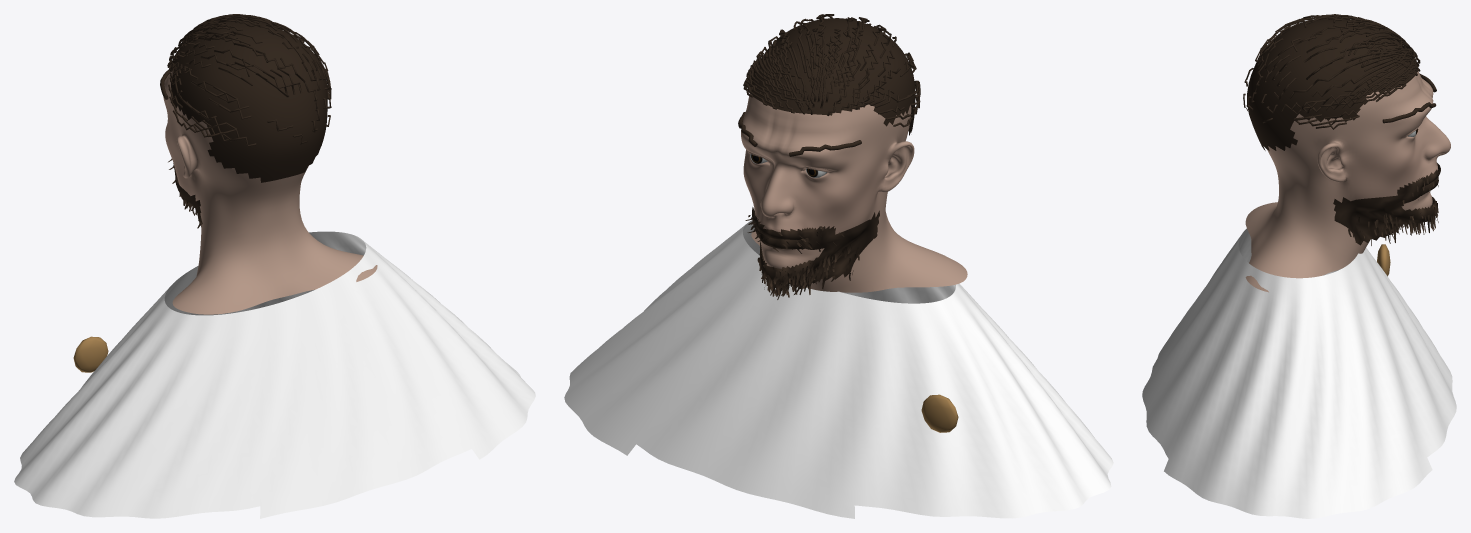
The model's file is envoy_036.glb.
The picture shows the model from 3 angles, left to right: view 1: azimuth 30°, elevation 25°; view 2: azimuth 150°, elevation 25°; view 3: azimuth 270°, elevation 25°; orthographic projection. The views are drawn at different scales.
Parts seen in each view (by area): view 1: Folded shoulder mantle, Envoy 036 body, Envoy 036 fitted scalp, Shoulder clasp; view 2: Folded shoulder mantle, Envoy 036 body, Envoy 036 fitted scalp, Hades beard hair shell, Hades beard hair cards, Shoulder clasp; view 3: Folded shoulder mantle, Envoy 036 body, Envoy 036 fitted scalp, Hades beard hair shell, Hades beard hair cards.
Part boxes in pixels (left/top/right/bottom): Folded shoulder mantle: left=14, top=231, right=535, bottom=518; Envoy 036 body: left=163, top=71, right=377, bottom=314; Envoy 036 fitted scalp: left=171, top=21, right=327, bottom=182; Shoulder clasp: left=73, top=336, right=108, bottom=372; Folded shoulder mantle: left=564, top=220, right=1113, bottom=518; Envoy 036 body: left=741, top=93, right=967, bottom=292; Envoy 036 fitted scalp: left=750, top=18, right=915, bottom=135; Hades beard hair shell: left=752, top=207, right=879, bottom=283; Hades beard hair cards: left=745, top=215, right=877, bottom=299; Shoulder clasp: left=921, top=394, right=958, bottom=432; Folded shoulder mantle: left=1142, top=228, right=1456, bottom=518; Envoy 036 body: left=1245, top=71, right=1450, bottom=292; Envoy 036 fitted scalp: left=1247, top=18, right=1418, bottom=150; Hades beard hair shell: left=1333, top=163, right=1440, bottom=245; Hades beard hair cards: left=1348, top=178, right=1438, bottom=245.
Size of the model in its own units: 0.3152 by 0.246 by 0.1831.
